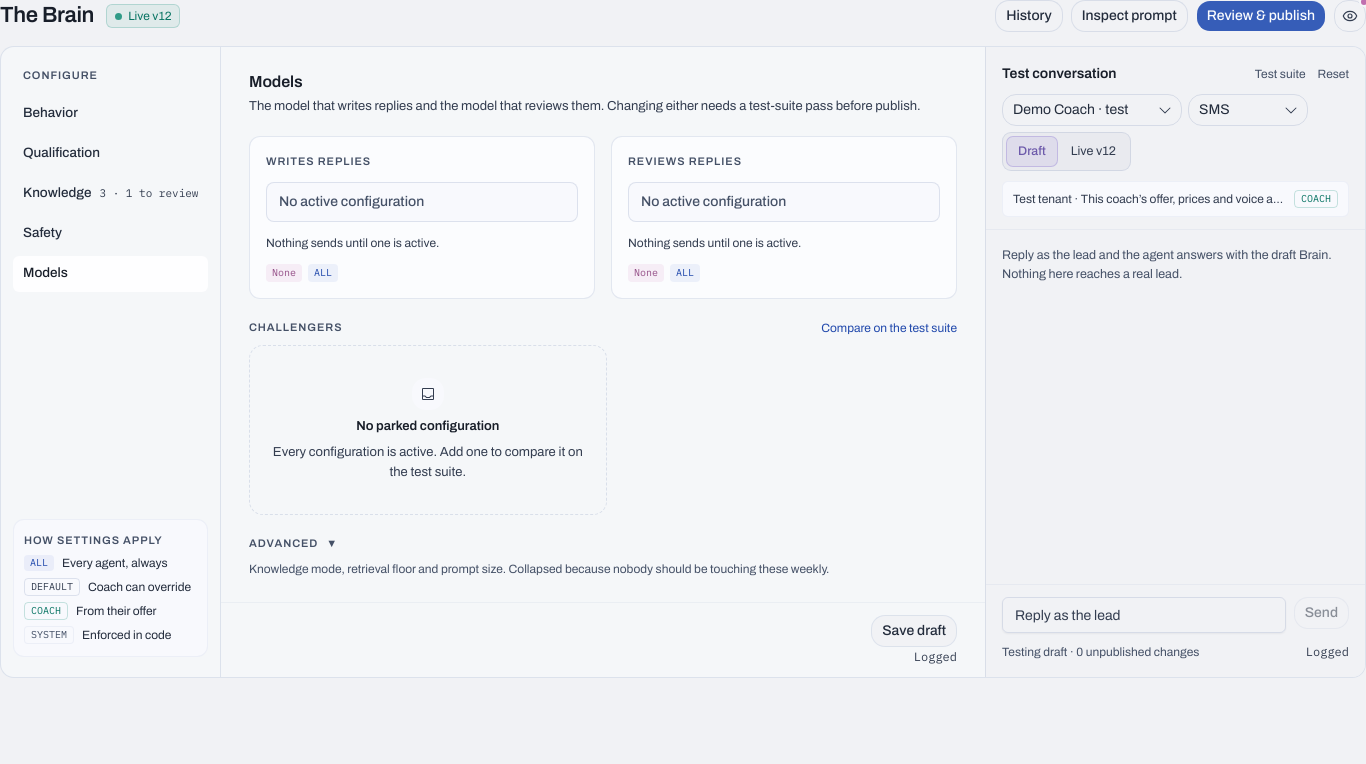
OwnerBrain, retrieval floor › sits in the advanced block beside knowledge mode and shows the code default when nothing is set
Click the button "ADVANCED ▼" at {"x": 284, "y": 543}, box x1=249 y1=535 x2=957 y2=552
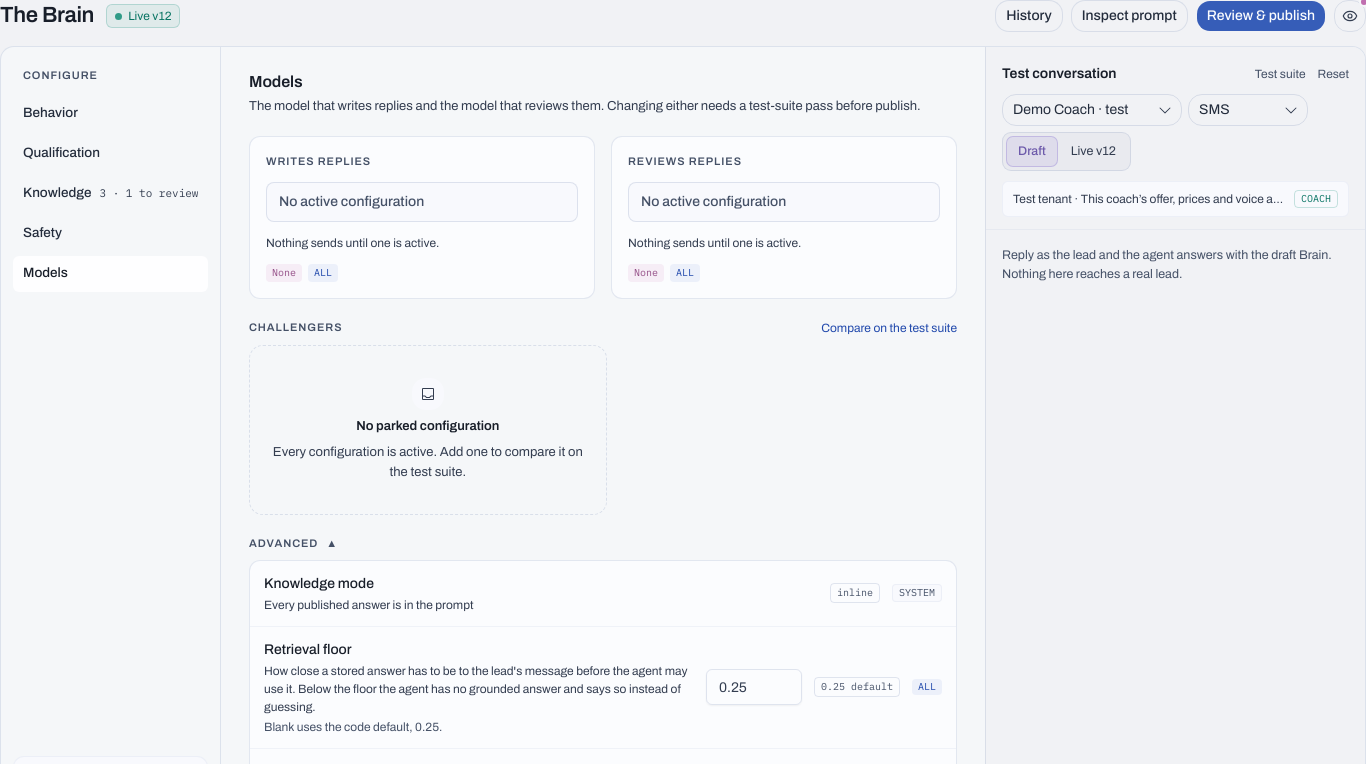
Expected: the number field named "Retrieval floor" is empty, x1=706 y1=669 x2=802 y2=705
Expected: the text "0.25 default" is shown, x1=814 y1=677 x2=900 y2=697
Expected: the text "Blank uses the code default, 0.25." is shown, x1=264 y1=720 x2=442 y2=734
